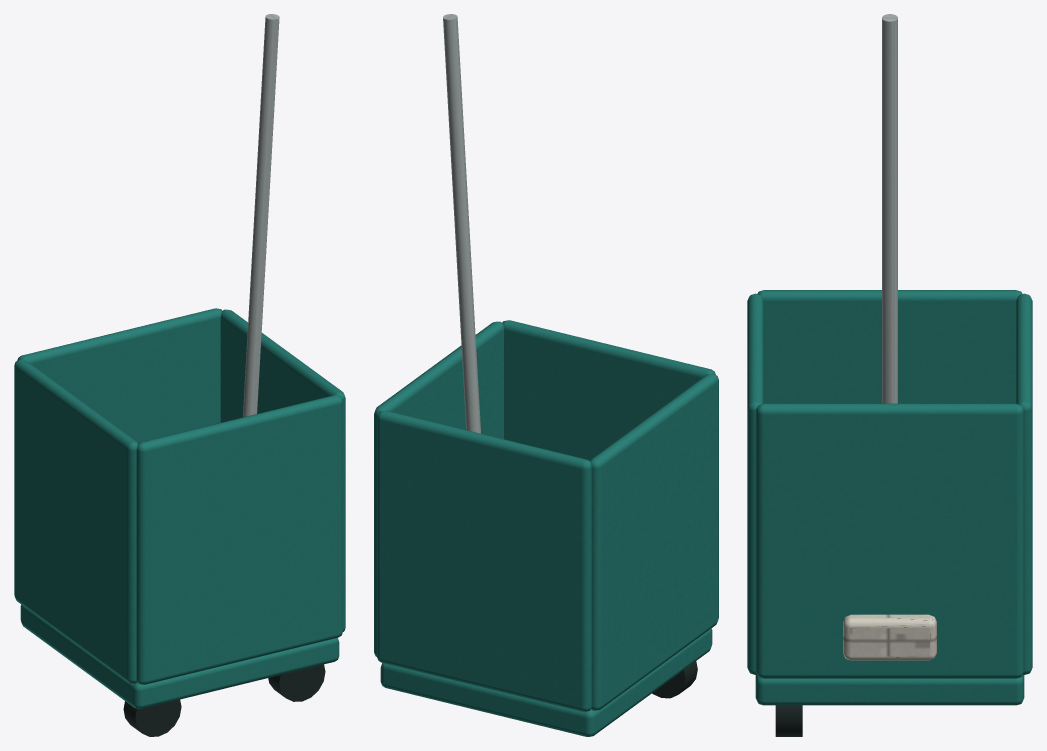
File: detail-mop-bucket-1.glb
The picture shows the model from 3 angles, left to right: view 1: azimuth 30°, elevation 25°; view 2: azimuth 150°, elevation 25°; view 3: azimuth 270°, elevation 25°; orthographic projection. The views are drawn at different scales.
Parts seen in each view (by area): view 1: bucket_wall (×4), bucket_base, mop_handle, castor (×2); view 2: bucket_wall (×4), bucket_base, mop_handle, castor; view 3: bucket_wall (×4), bucket_base, mop_handle, mop_head, castor.
Part boxes in pixels (box(x1,y1,x2,y2)): bucket_wall (×4): box(14, 308, 345, 684); bucket_base: box(20, 604, 339, 708); mop_handle: box(243, 14, 279, 417); castor (×2): box(123, 664, 325, 736); bucket_wall (×4): box(374, 320, 718, 711); bucket_base: box(380, 628, 712, 736); mop_handle: box(443, 14, 480, 433); castor: box(652, 661, 697, 698); bucket_wall (×4): box(747, 290, 1032, 678); bucket_base: box(755, 675, 1024, 705); mop_handle: box(882, 14, 897, 403); mop_head: box(843, 614, 936, 660); castor: box(775, 705, 802, 736).
Size of the model in its own units: 0.4475 by 1.2 by 0.425.
Materials: 4 (4 with a texture image).
